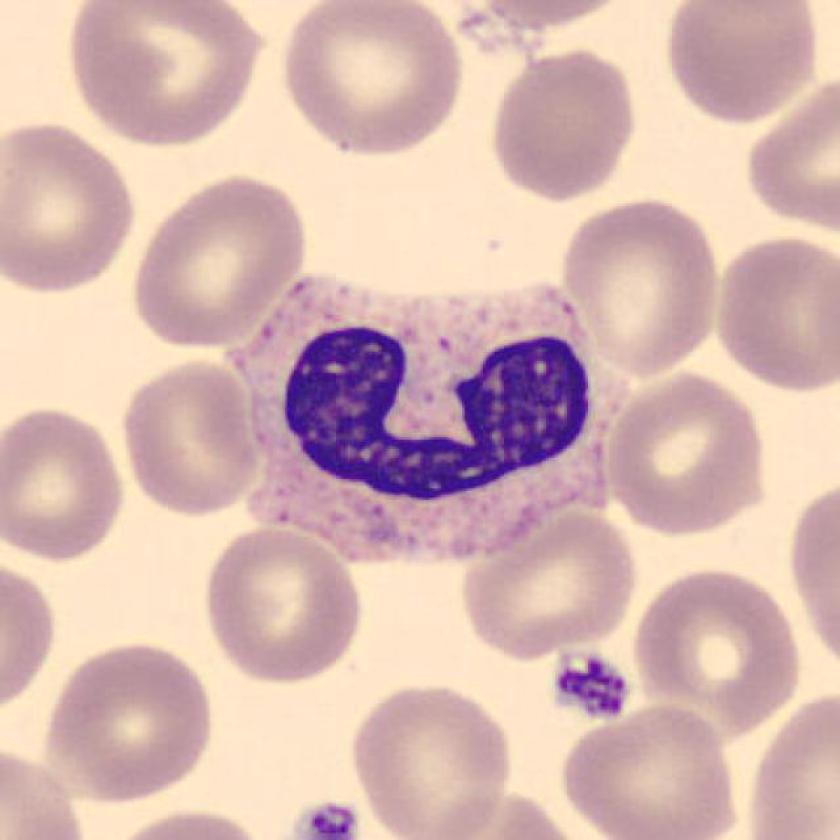neutrophil: (233, 276, 613, 566)
